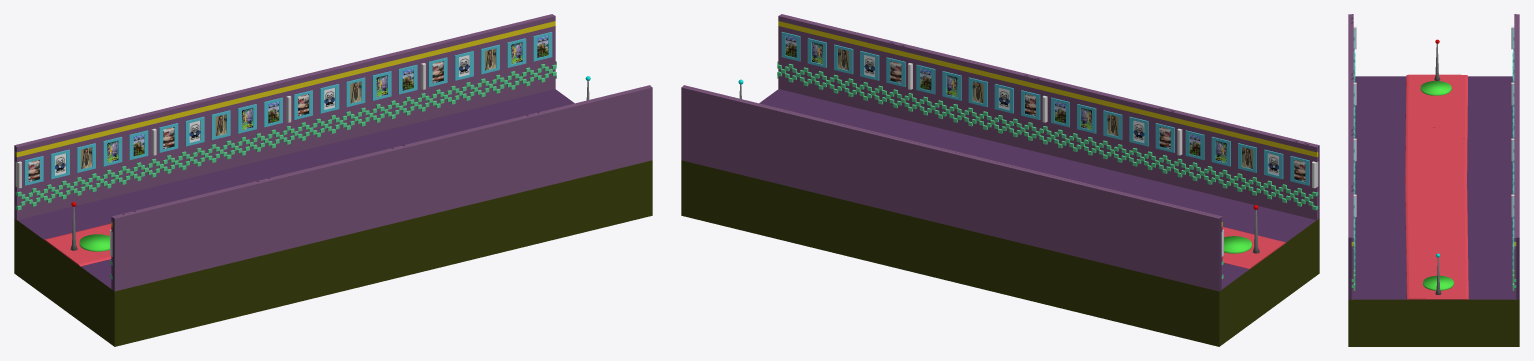
Rendered from lvl1-5.fbx.
3 views of the same model, side by side, from view 1: azimuth 30°, elevation 25°; view 2: azimuth 150°, elevation 25°; view 3: azimuth 270°, elevation 25° (orthographic). The views are drawn at different scales.
Parts seen in each view (by area): view 1: Cube.016, Cube.017, Cylinder.015; view 2: Cube.016, Cube.017, Cylinder.015; view 3: Cube.016, Cube.017, Cylinder.015, Cylinder.013.
Boxes of the visible parts, x1,y1,x2,y2 form: Cube.016: [14, 14, 652, 346]; Cube.017: [44, 223, 111, 266]; Cylinder.015: [70, 202, 109, 251]; Cube.016: [681, 14, 1319, 346]; Cube.017: [1222, 227, 1286, 269]; Cylinder.015: [1224, 205, 1259, 253]; Cube.016: [1348, 14, 1519, 346]; Cube.017: [1405, 74, 1468, 299]; Cylinder.015: [1420, 39, 1451, 95]; Cylinder.013: [1423, 253, 1453, 294].
Size of the model in its own units: 3424 by 779 by 1105.
